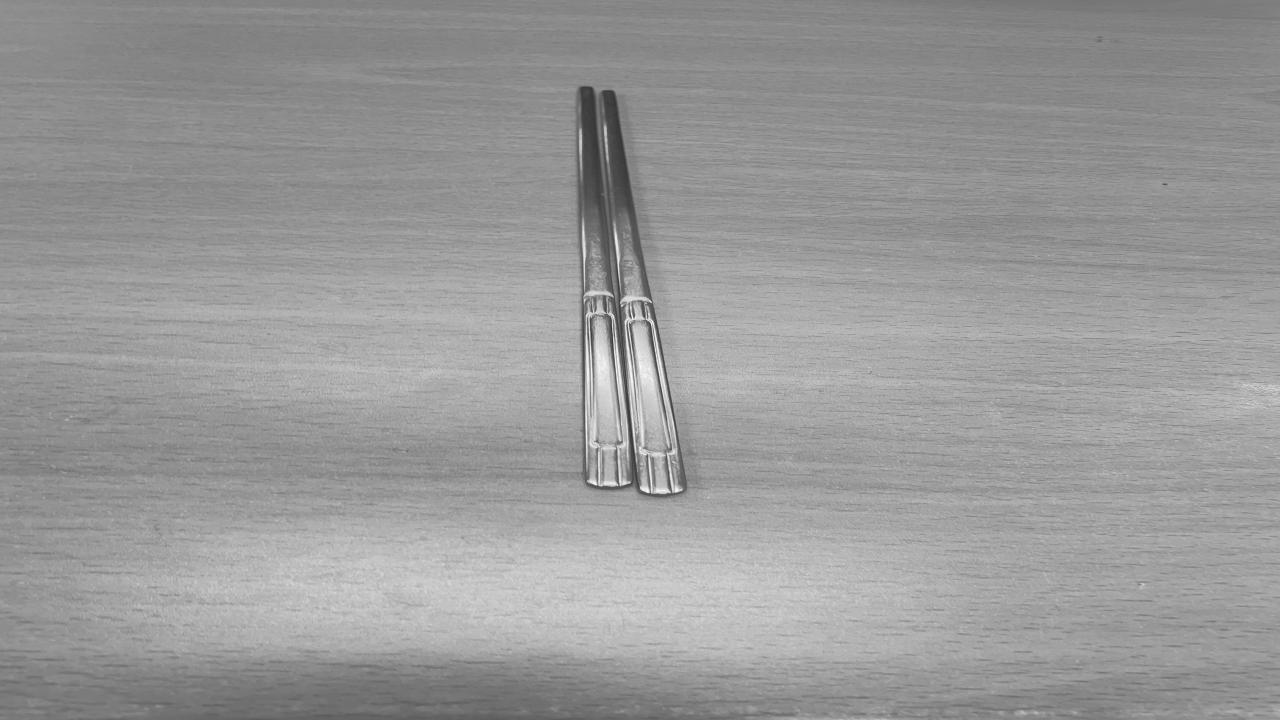chopstick: (578, 87, 681, 494)
